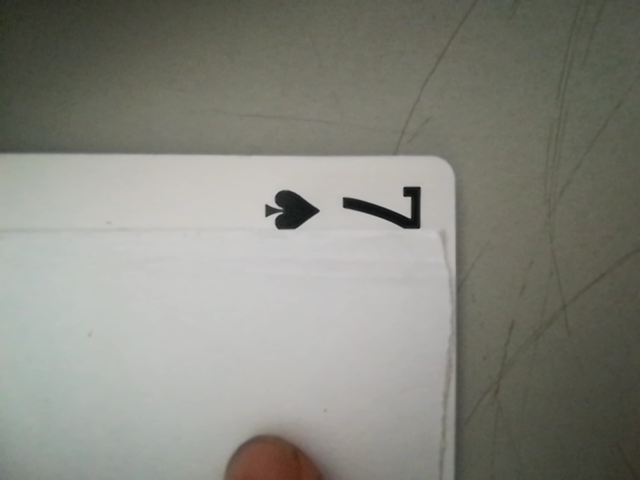ht 7: (247, 171, 441, 238)
